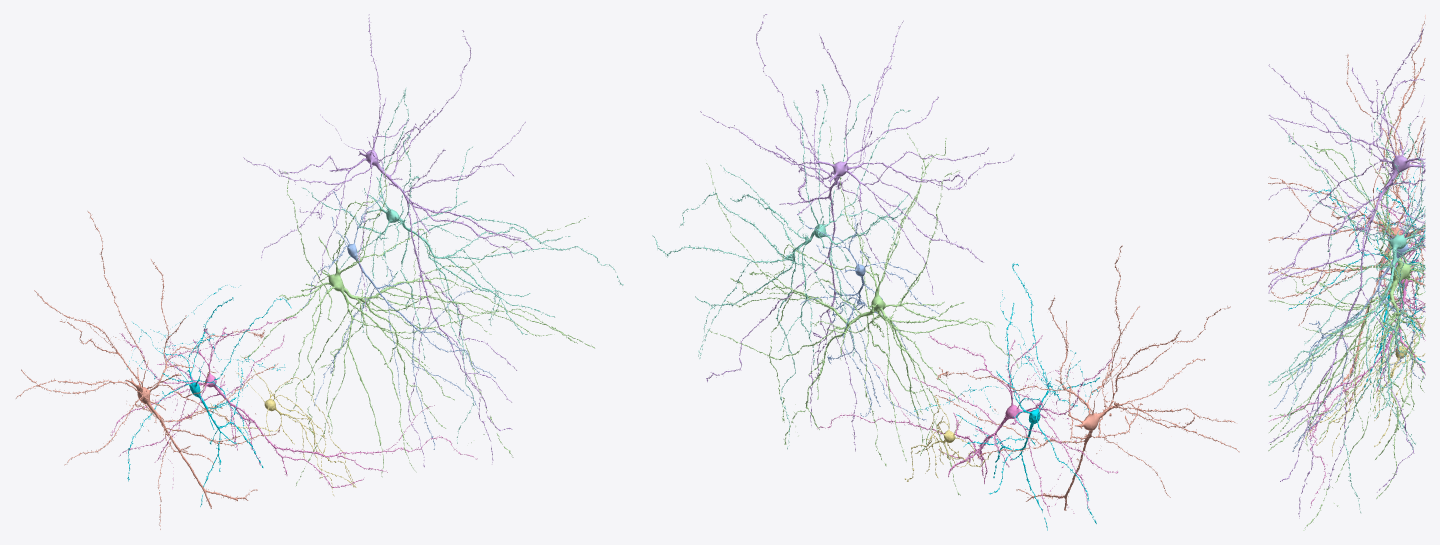
The model's file is human-neurons.glb.
3 views of the same model, side by side, from view 1: azimuth 30°, elevation 25°; view 2: azimuth 150°, elevation 25°; view 3: azimuth 270°, elevation 25° (orthographic). The views are drawn at different scales.
Parts seen in each view (by area): view 1: seg_620880207, seg_810970127, seg_751294744, seg_883843993, seg_547114083, seg_810151953, seg_546925828, seg_678539249; view 2: seg_620880207, seg_810970127, seg_751294744, seg_883843993, seg_547114083, seg_546925828, seg_810151953, seg_678539249; view 3: seg_620880207, seg_810970127, seg_883843993, seg_751294744, seg_547114083, seg_810151953, seg_546925828, seg_678539249.
Part boxes in pixels (<box>): seg_620880207: <box>240,140,594,486</box>; seg_810970127: <box>243,14,532,467</box>; seg_751294744: <box>16,211,280,529</box>; seg_883843993: <box>302,87,623,443</box>; seg_547114083: <box>111,316,477,488</box>; seg_810151953: <box>303,189,495,449</box>; seg_546925828: <box>127,285,291,506</box>; seg_678539249: <box>210,369,356,495</box>; seg_620880207: <box>706,126,1018,495</box>; seg_810970127: <box>700,14,1014,451</box>; seg_751294744: <box>935,245,1239,510</box>; seg_883843993: <box>652,84,910,449</box>; seg_547114083: <box>817,333,1117,516</box>; seg_546925828: <box>909,263,1099,530</box>; seg_810151953: <box>800,211,938,420</box>; seg_678539249: <box>905,395,990,481</box>; seg_620880207: <box>1268,91,1425,530</box>; seg_810970127: <box>1268,24,1425,518</box>; seg_883843993: <box>1268,103,1425,512</box>; seg_751294744: <box>1268,15,1425,399</box>; seg_547114083: <box>1268,153,1425,507</box>; seg_810151953: <box>1274,186,1425,451</box>; seg_546925828: <box>1288,167,1425,387</box>; seg_678539249: <box>1305,303,1425,456</box>.
Size of the model in its own units: 4 by 2.93 by 0.893.
